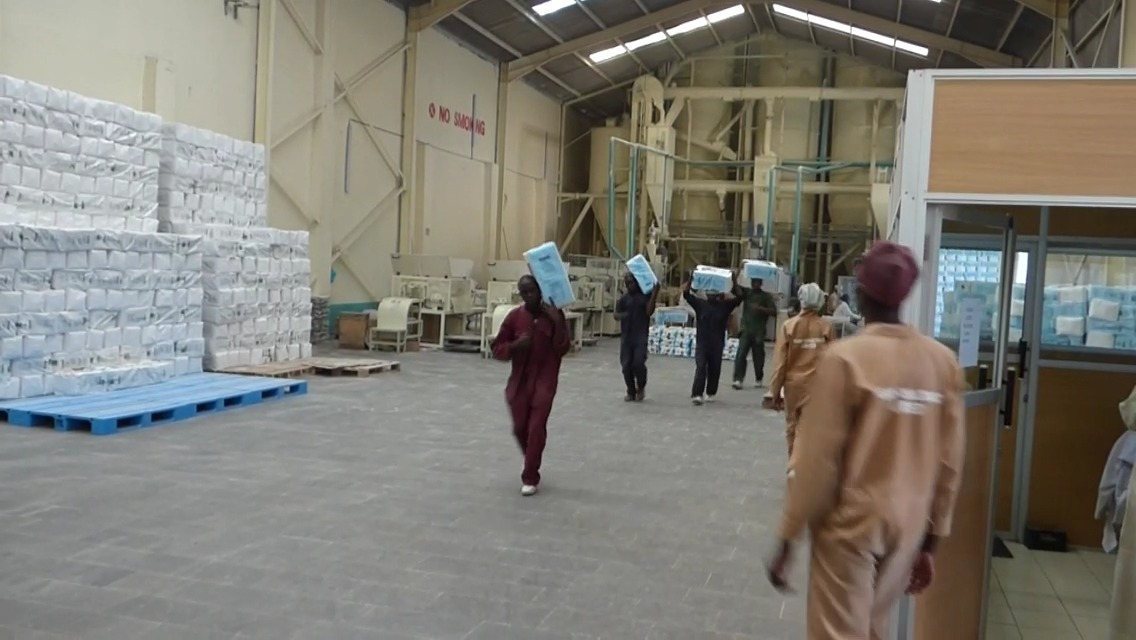wheat_flour_blue_label: (515, 237, 584, 317)
